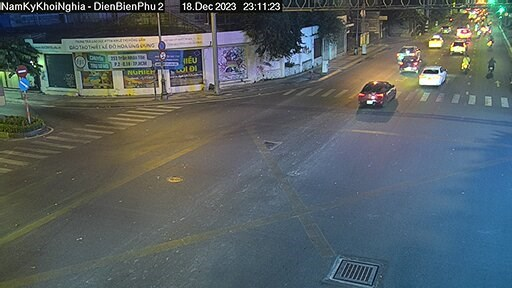car: (357, 72, 394, 110), (419, 61, 452, 95), (395, 42, 423, 60), (398, 56, 417, 76), (427, 31, 443, 53), (449, 38, 467, 57)
motorbike: (481, 56, 506, 77), (458, 54, 475, 73), (483, 31, 499, 48)
